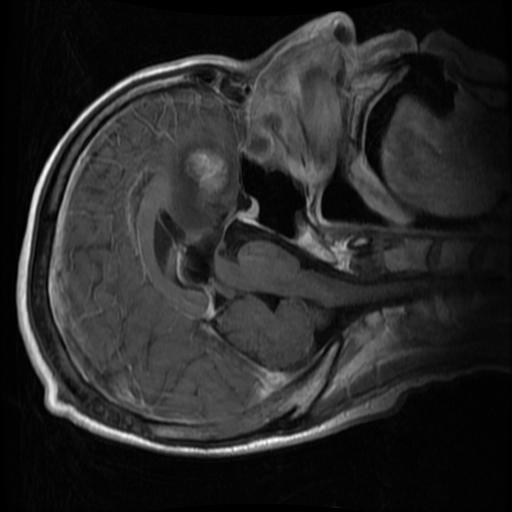meningioma: (186, 148, 227, 193)
